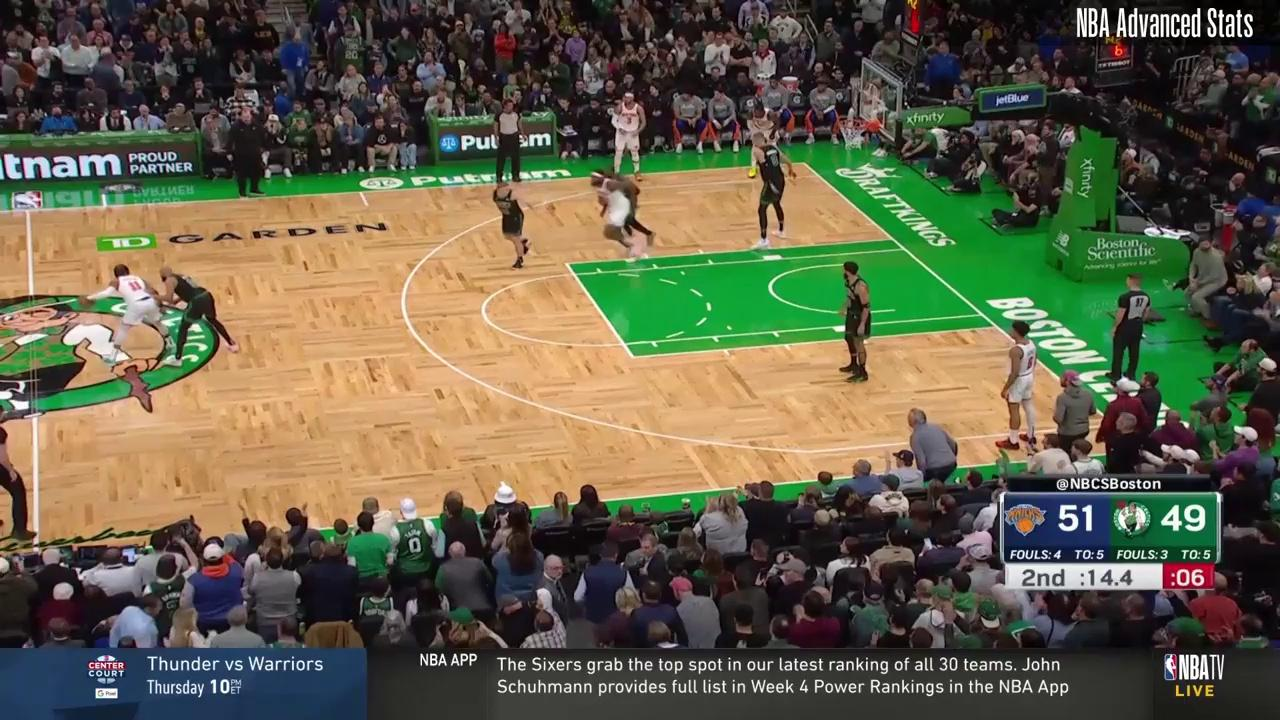3_sx: (815, 173, 822, 180)
b_sx: (801, 160, 808, 167)
free_adx: (628, 352, 637, 361)
free_asx: (562, 259, 571, 268)
free_bdx: (992, 323, 1000, 330)
free_bsx: (889, 235, 897, 243)
half_sx: (21, 204, 34, 217)
mid_dx: (498, 477, 507, 485)
mid_sx: (363, 202, 372, 209)
referee: (0, 399, 45, 545), (1107, 273, 1152, 383), (493, 100, 527, 185)
team: (160, 264, 240, 367), (748, 133, 793, 257), (836, 261, 873, 386), (601, 165, 656, 245), (490, 180, 532, 273)
team1: (91, 266, 176, 359), (997, 316, 1040, 451), (590, 171, 640, 266), (611, 94, 647, 180), (744, 101, 783, 178)
timer: (1074, 557, 1144, 591)
